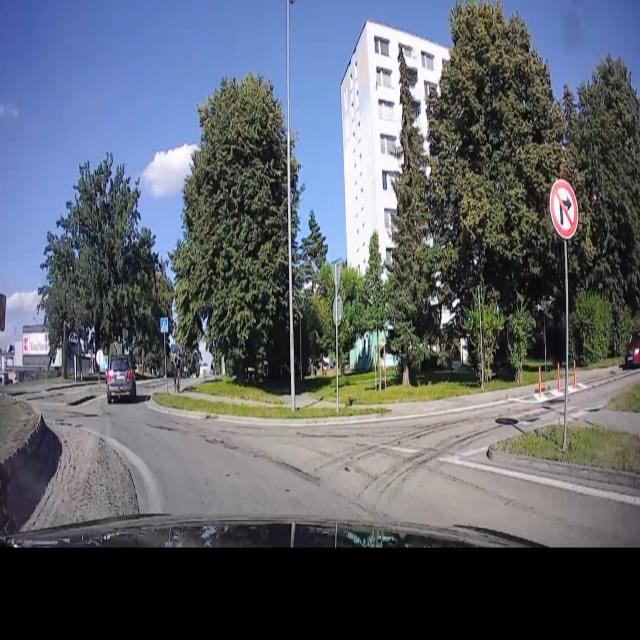Pedestrian crosswalk: (160, 316, 169, 332)
